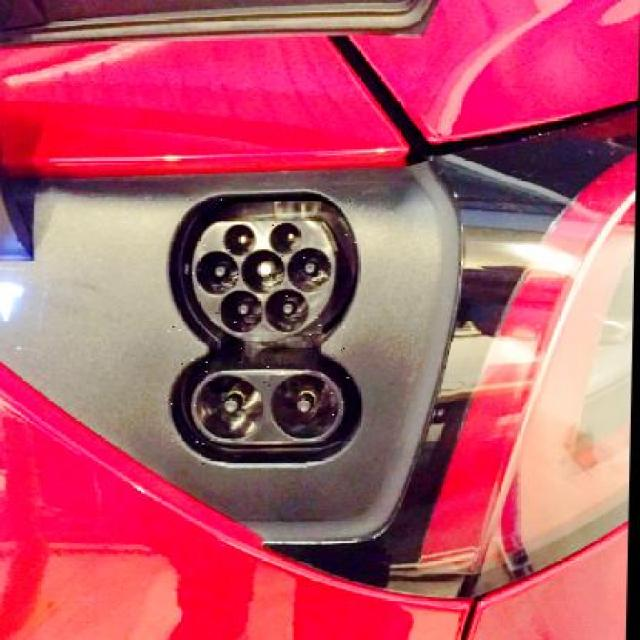CCS2: (148, 181, 384, 470)
